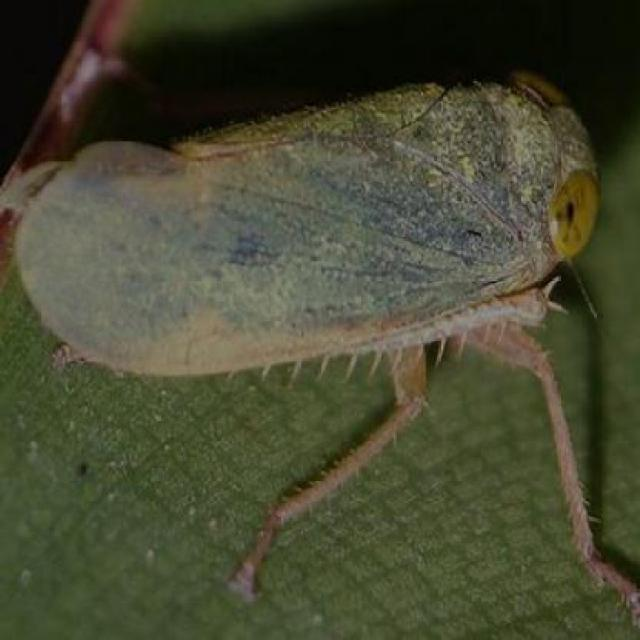green-leafhopper: (20, 66, 608, 389)
